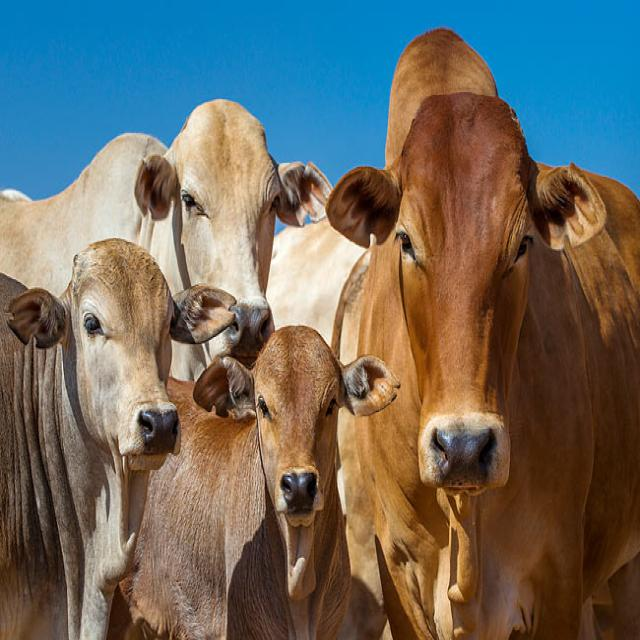cowFace: (324, 71, 566, 481), (123, 51, 335, 364), (10, 210, 239, 484), (195, 337, 383, 551)
